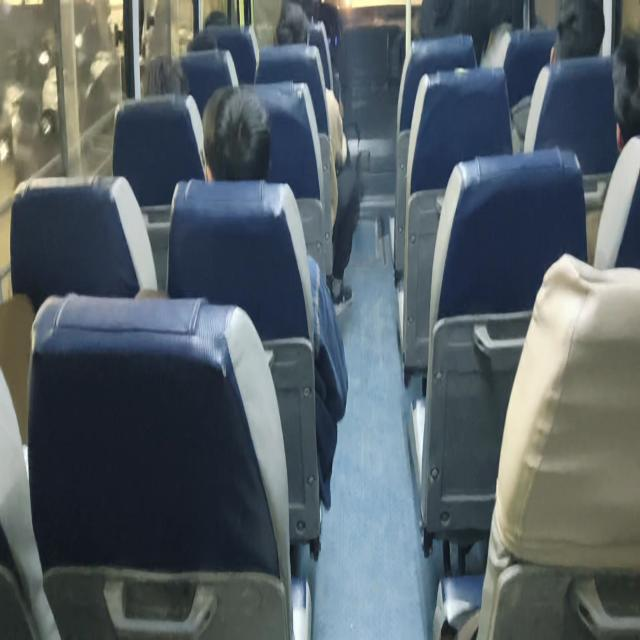person: (200, 83, 348, 509), (274, 1, 362, 308), (513, 0, 606, 153), (593, 32, 639, 270), (202, 84, 272, 182), (549, 0, 605, 65), (611, 32, 639, 152)
